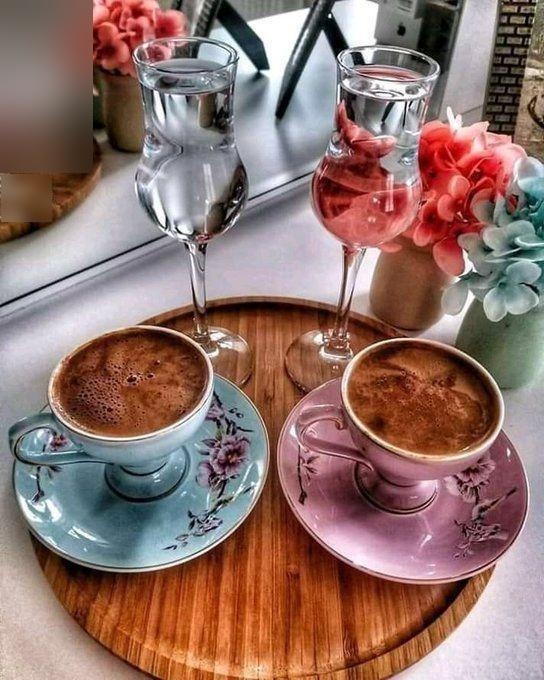cup-handle: (293, 335, 505, 516), (5, 325, 213, 502)
glass-wine: (282, 45, 440, 392), (132, 34, 255, 383)
